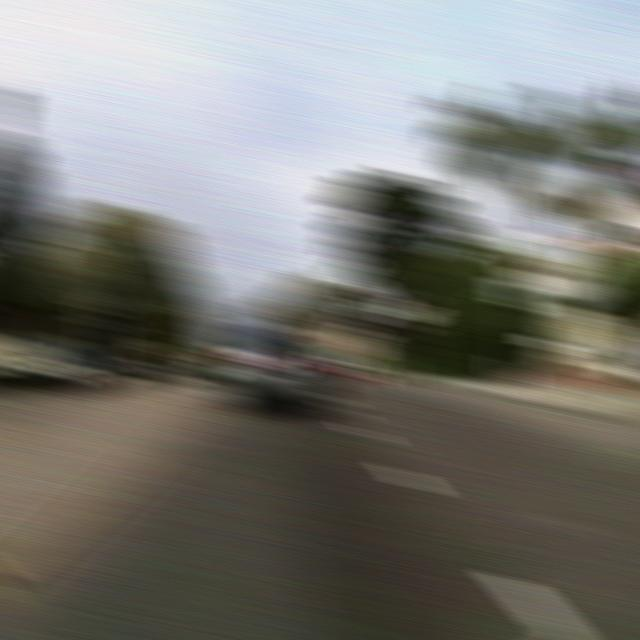speedLimit40: (498, 281, 535, 311)
